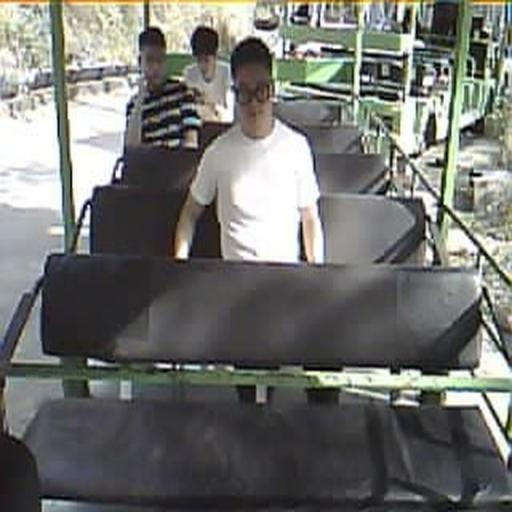persona: (173, 36, 325, 265), (120, 26, 204, 159), (180, 25, 234, 118)
